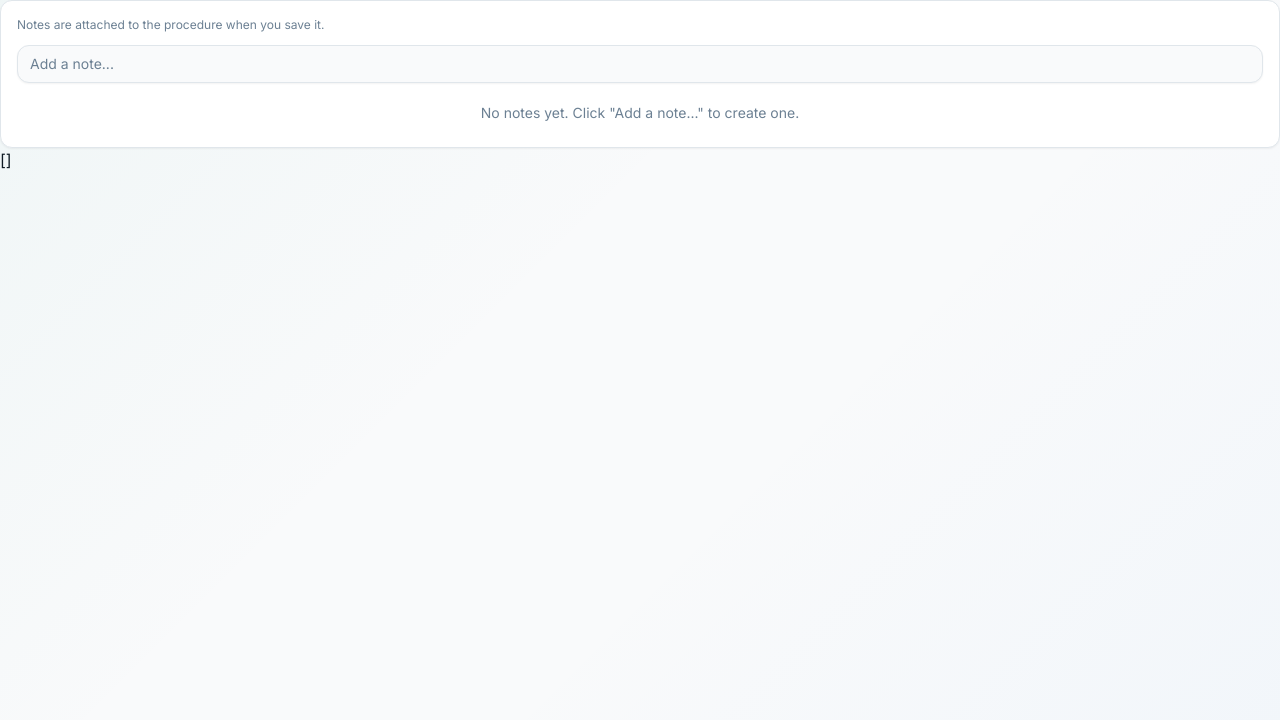
Test: StickyNotes - composer defaults › leaves the body alone - the clinician still writes the note
The image size is (1280, 720).
Click the button "Add a note..." at (72, 64), box x1=17 y1=45 x2=1263 y2=83
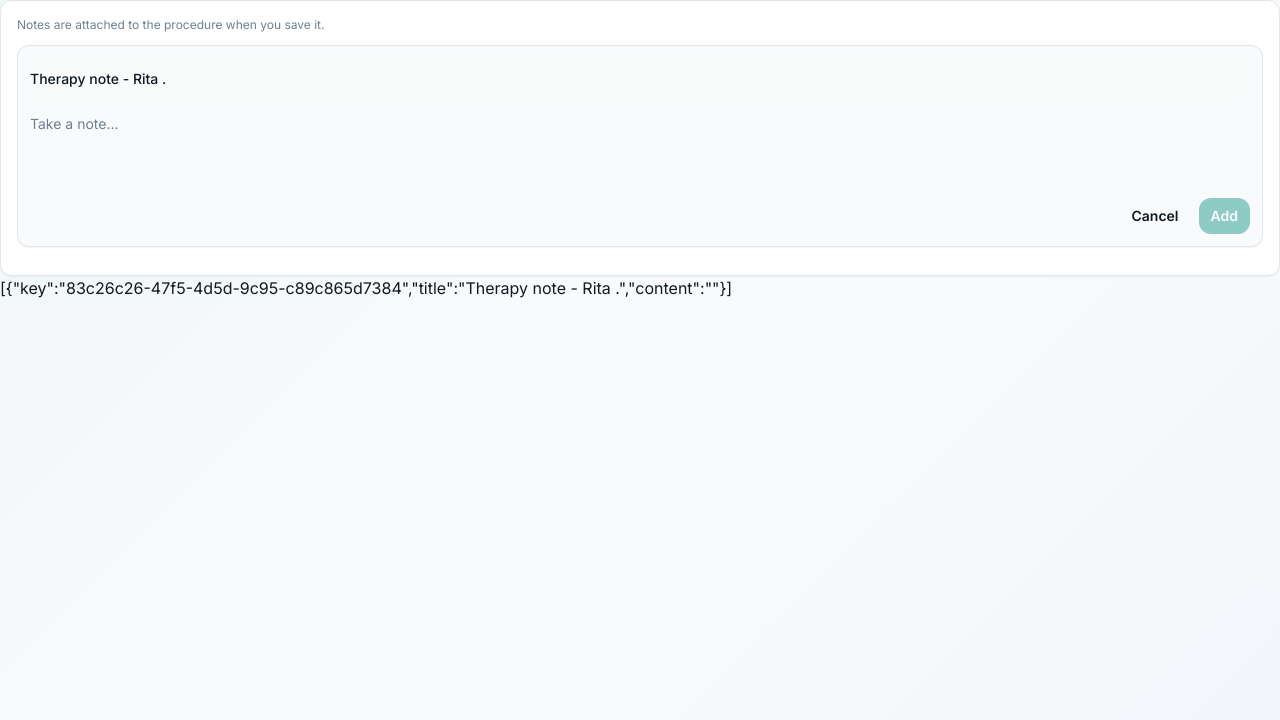
Check: the text box with placeholder "Take a note..." is empty, box x1=30 y1=106 x2=1250 y2=186
